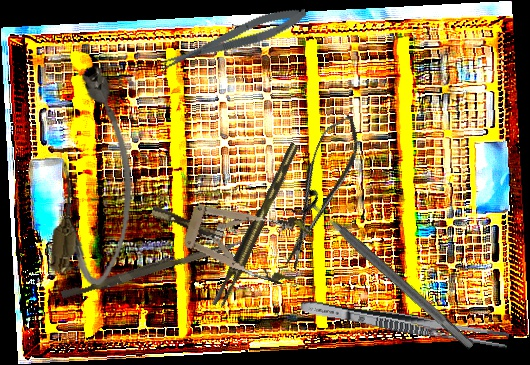Cannula: (47, 62, 147, 288)
Dressing Forceps: (299, 296, 510, 350)
Fixation Ring: (290, 186, 483, 360)
Micro Scissor: (267, 108, 371, 274), (156, 0, 311, 76)
Pusher: (60, 233, 243, 304)
Speculum: (142, 177, 315, 289)
Tissue Forceps: (206, 142, 308, 310)
